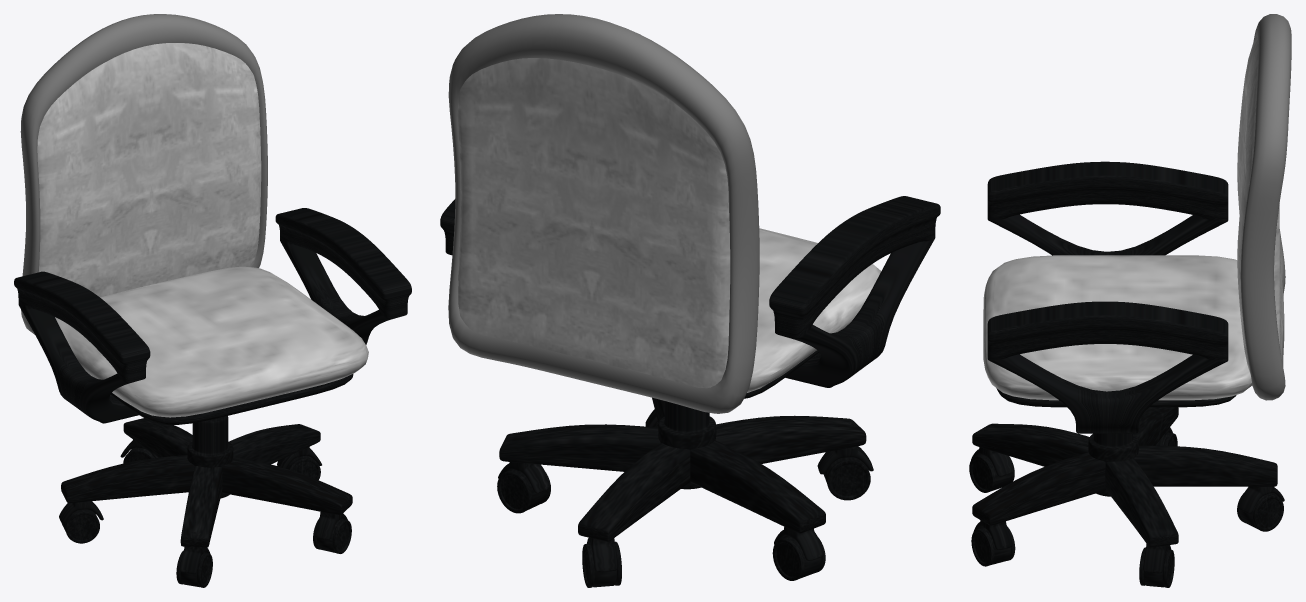
Rendered from chairr.fbx.
3 views of the same model, side by side, from view 1: azimuth 30°, elevation 25°; view 2: azimuth 150°, elevation 25°; view 3: azimuth 270°, elevation 25° (orthographic). The views are drawn at different scales.
Visible parts, largest first — view 1: Cube.001; view 2: Cube.001; view 3: Cube.001.
Boxes of the visible parts, x1,y1,x2,y2 form: Cube.001: (14,14,411,587); Cube.001: (440,14,940,587); Cube.001: (969,14,1291,587).
Bounding box in the file's own units: 242 × 361 × 212.
